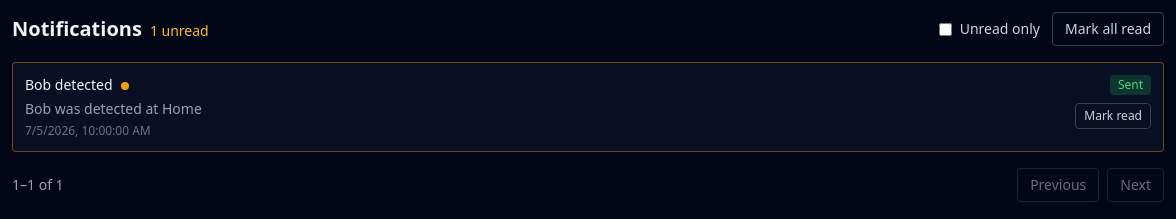
Test: "Mark read" POSTs /api/notifications/:id/read and the item flips to read
Expected: the list item with test id "notification-row-notif-1" is shown, [12,62,1164,152]
Click the button "Mark read".
click(1113, 116)  # box [1075,103,1151,129]
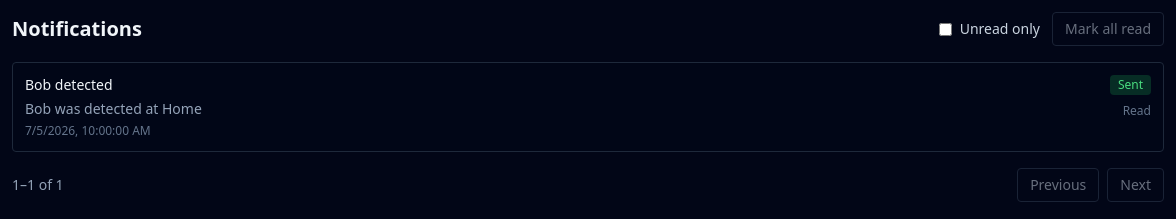
Expected: the text "Read" is shown, [1123,103,1151,119]
Result: the button "Mark read" is gone
